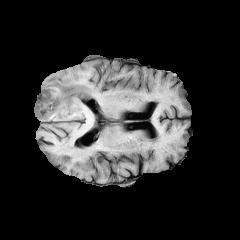glioma: (34, 77, 93, 120)
